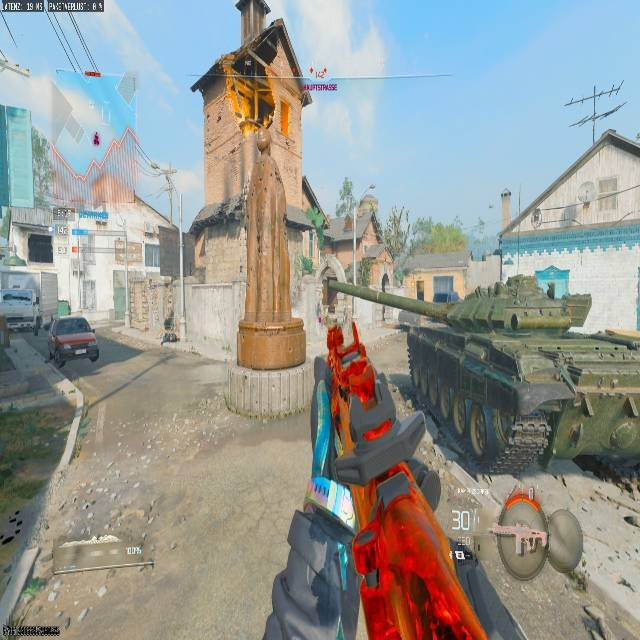player: (160, 308, 179, 344)
